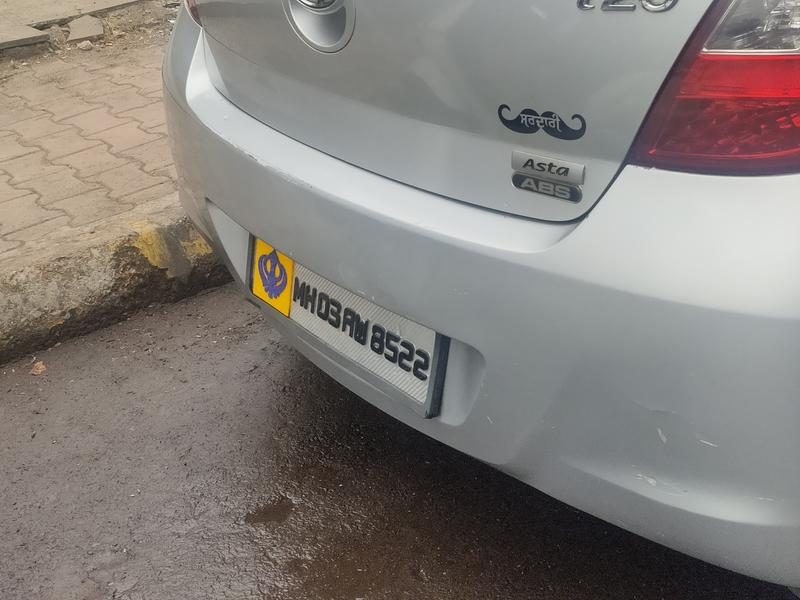license_plate: (236, 221, 441, 423)
